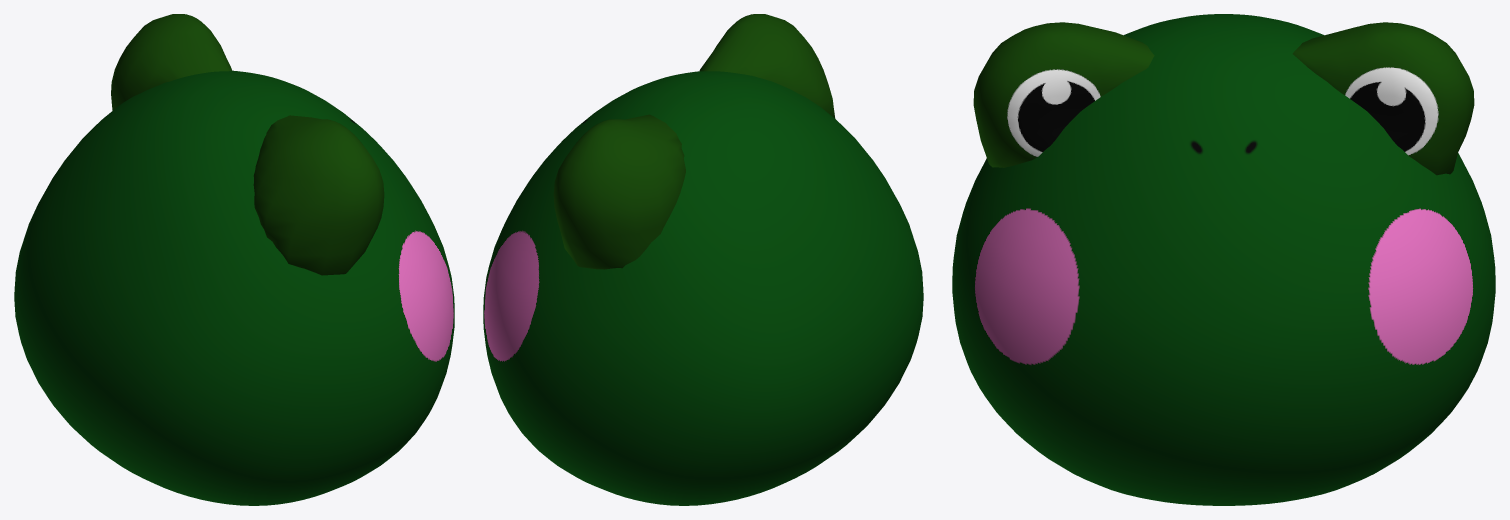
Rendered from item9.fbx.
3 renders of one model, left to right at view 1: azimuth 30°, elevation 25°; view 2: azimuth 150°, elevation 25°; view 3: azimuth 270°, elevation 25°, orthographic. The views are drawn at different scales.
Visible parts, largest first — view 1: Сфера.001; view 2: Сфера.001; view 3: Сфера.001.
Boxes of the visible parts, box(x1,y1,x2,y2) form: Сфера.001: box(14, 14, 454, 505); Сфера.001: box(483, 14, 923, 505); Сфера.001: box(952, 14, 1495, 505).
Bounding box in the file's own units: 178 × 185 × 199.
Materials: 2 (2 with a texture image).
